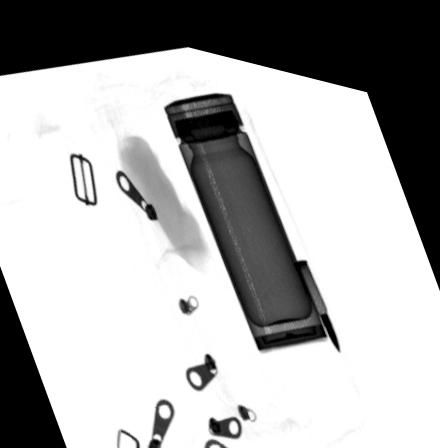Bullet: (293, 244, 338, 339)
